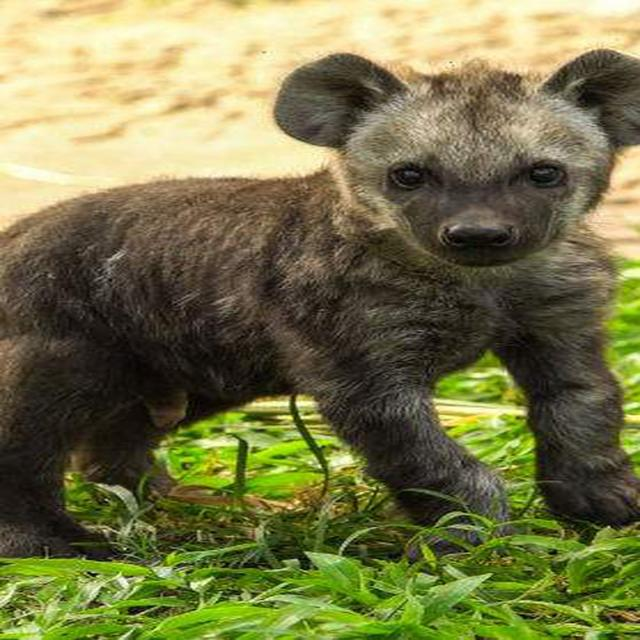Hyena: (0, 43, 629, 556)
